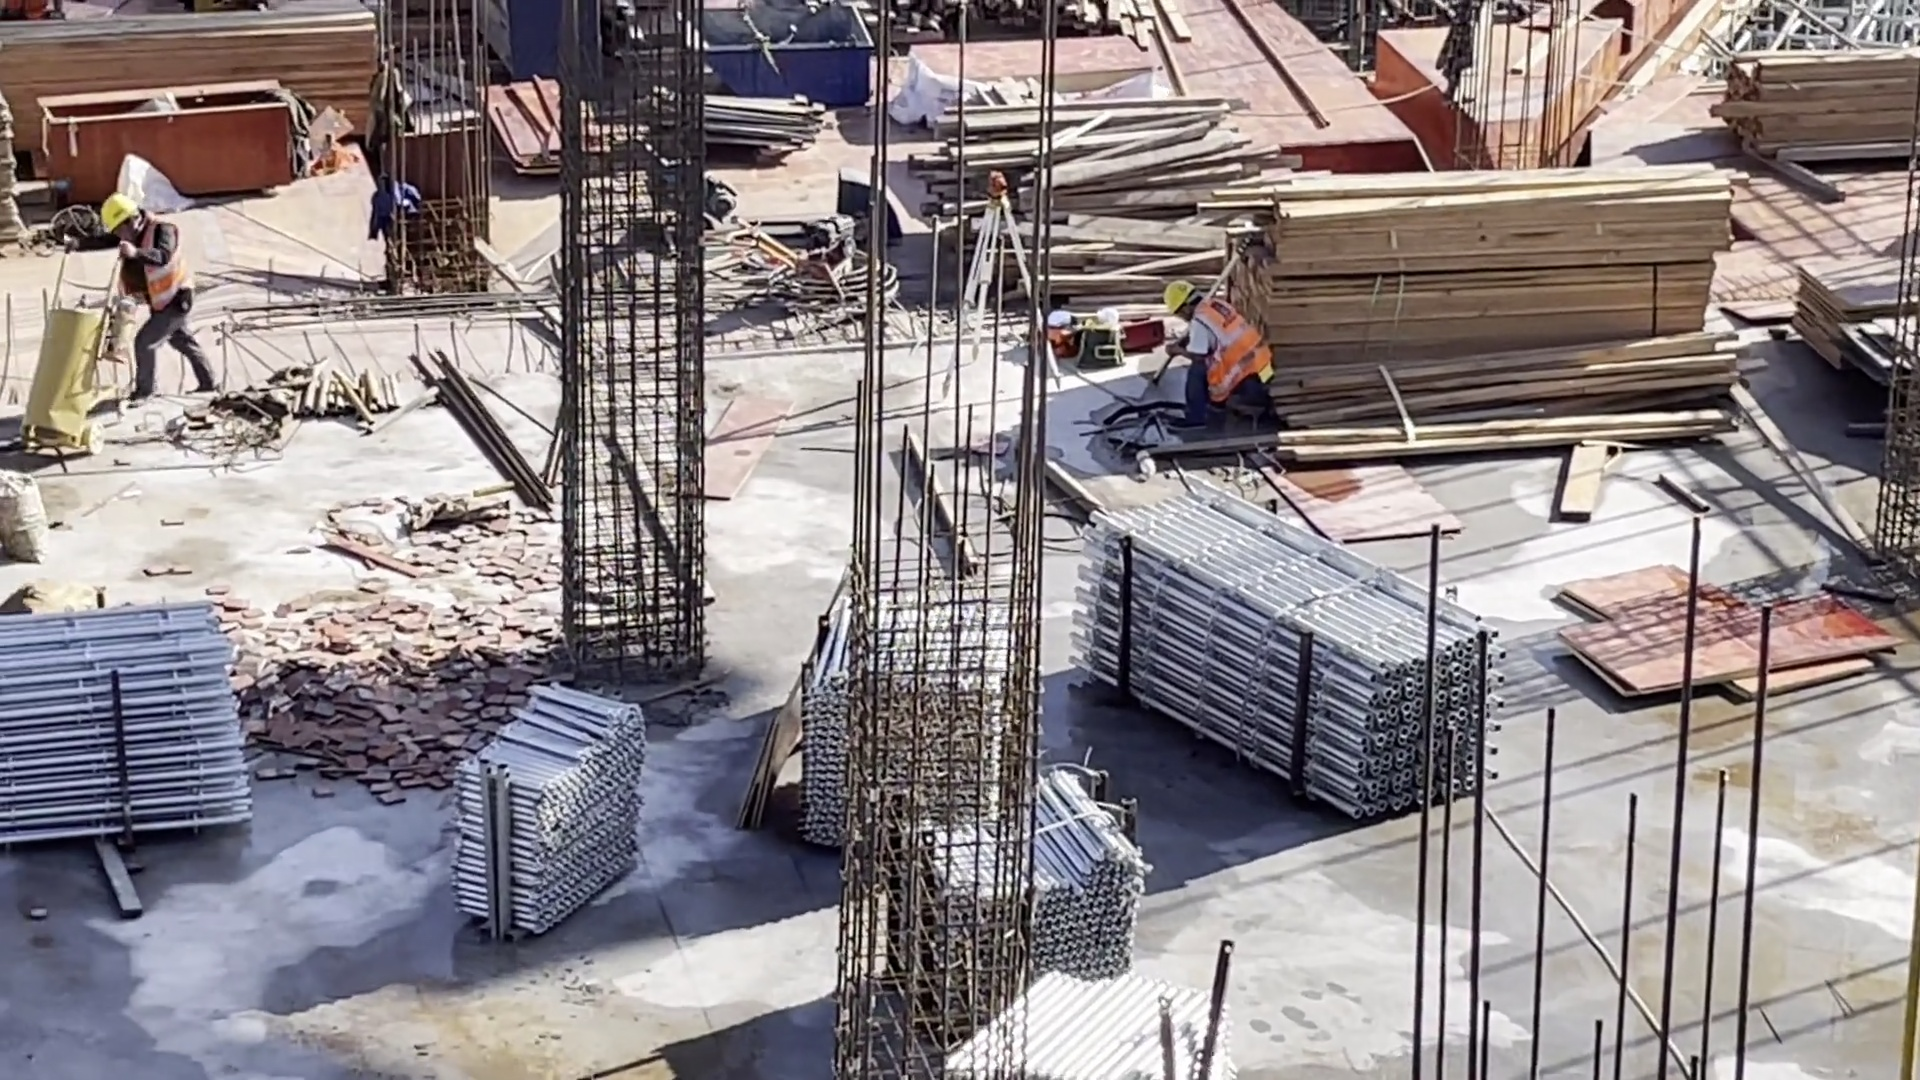board: (1784, 249, 1920, 402)
helmet: (102, 198, 137, 230), (1167, 284, 1196, 308)
hopper: (666, 5, 875, 104)
person: (89, 194, 226, 401), (1163, 280, 1277, 428)
scaffold: (813, 574, 1241, 1080), (1078, 478, 1504, 820), (1, 608, 251, 848), (451, 682, 647, 930)
vest: (1198, 301, 1273, 408), (121, 224, 199, 313)
wood: (1196, 153, 1747, 461), (918, 98, 1255, 309), (6, 11, 381, 160), (1714, 43, 1920, 179)
